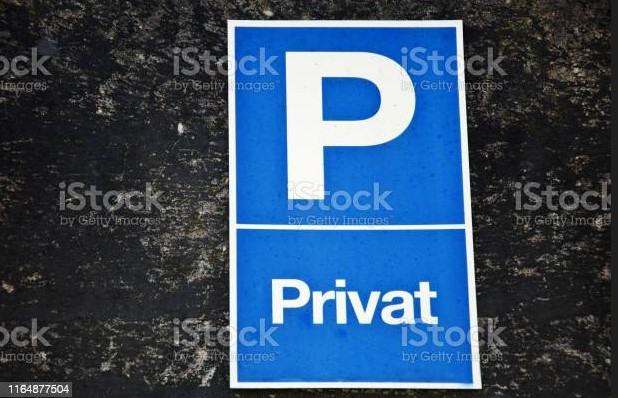Parking: (221, 10, 474, 229)
